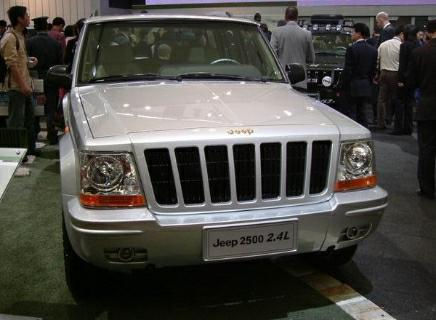Jeep-北京JEEP: (45, 10, 395, 291)
